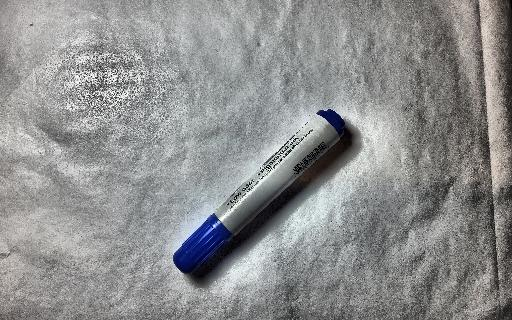marcador azul: (173, 109, 345, 274)
